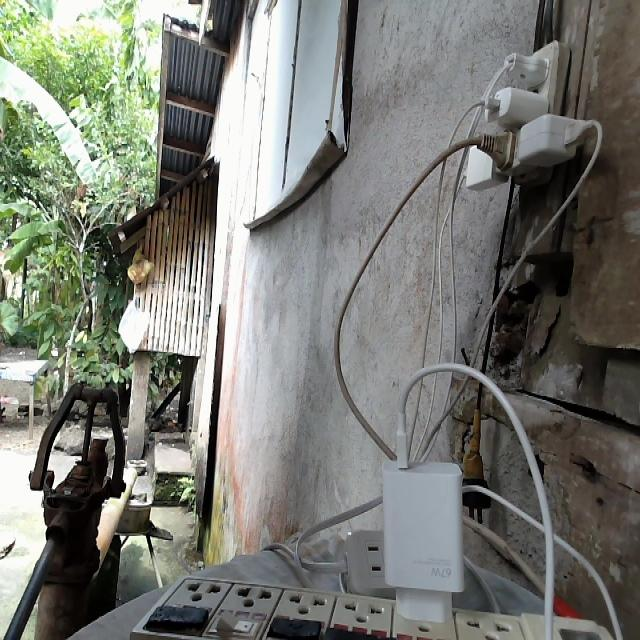-: (459, 37, 590, 191)
